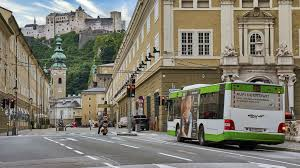bus: (163, 79, 288, 147)
